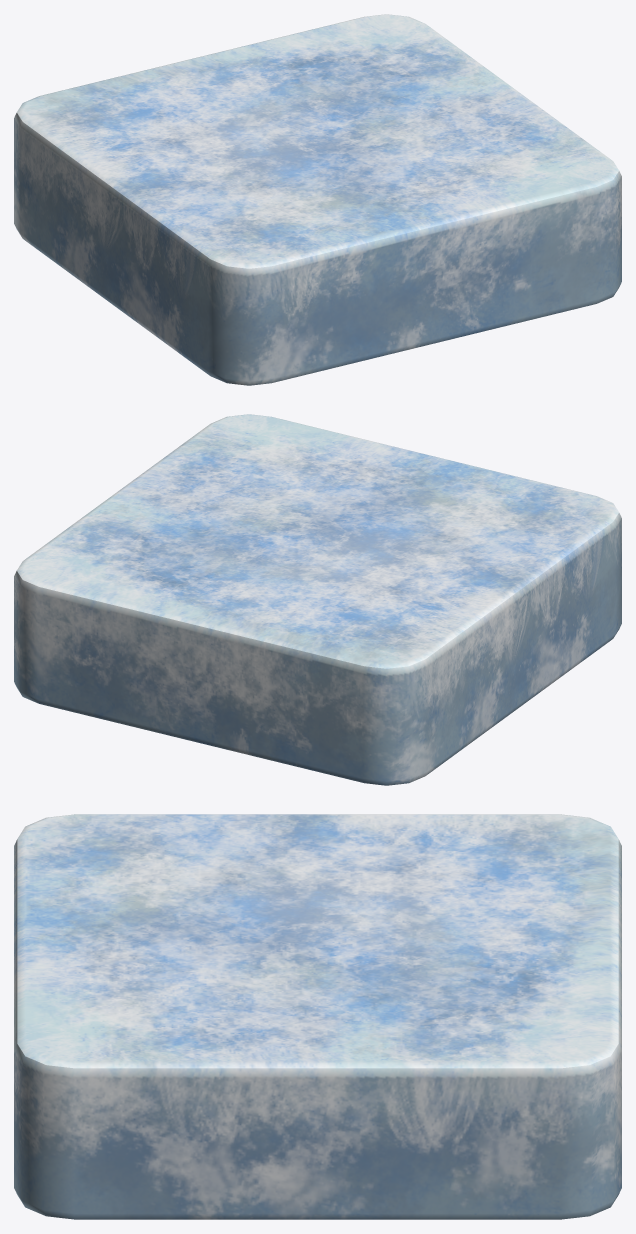
The model's file is 1_stage.fbx.
3 views of the same model, one above another, from view 1: azimuth 30°, elevation 25°; view 2: azimuth 150°, elevation 25°; view 3: azimuth 270°, elevation 25° (orthographic). The views are drawn at different scales.
Parts seen in each view (by area): view 1: pCube197; view 2: pCube197; view 3: pCube197.
Part boxes in pixels (left/top/right/bottom): pCube197: left=14, top=14, right=621, bottom=385; pCube197: left=14, top=414, right=621, bottom=785; pCube197: left=14, top=814, right=621, bottom=1219.
Size of the model in its own units: 7 by 2 by 7.
1 material, 1 textured.
